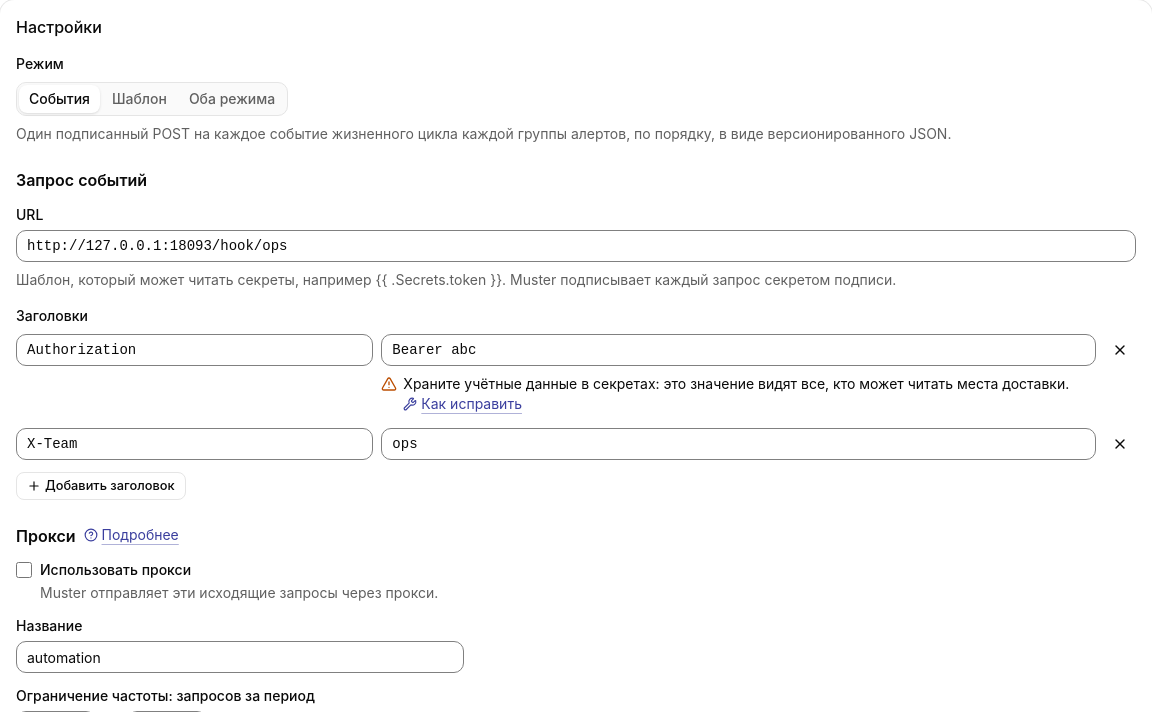
DestinationForm with the outgoing webhook fields › shows the fields in Russian
Expected: the element "События Шаблон Оба режима" is shown, [16, 82, 288, 116]
Expected: the element with test id "literal-credential" shows "Храните учётные данные в секретах: это значение видят все, кто может читать места доставки. Как исправить", [381, 374, 1096, 416]
Click the tab "Шаблон" at coordinates (139, 99), box [102, 85, 177, 113]
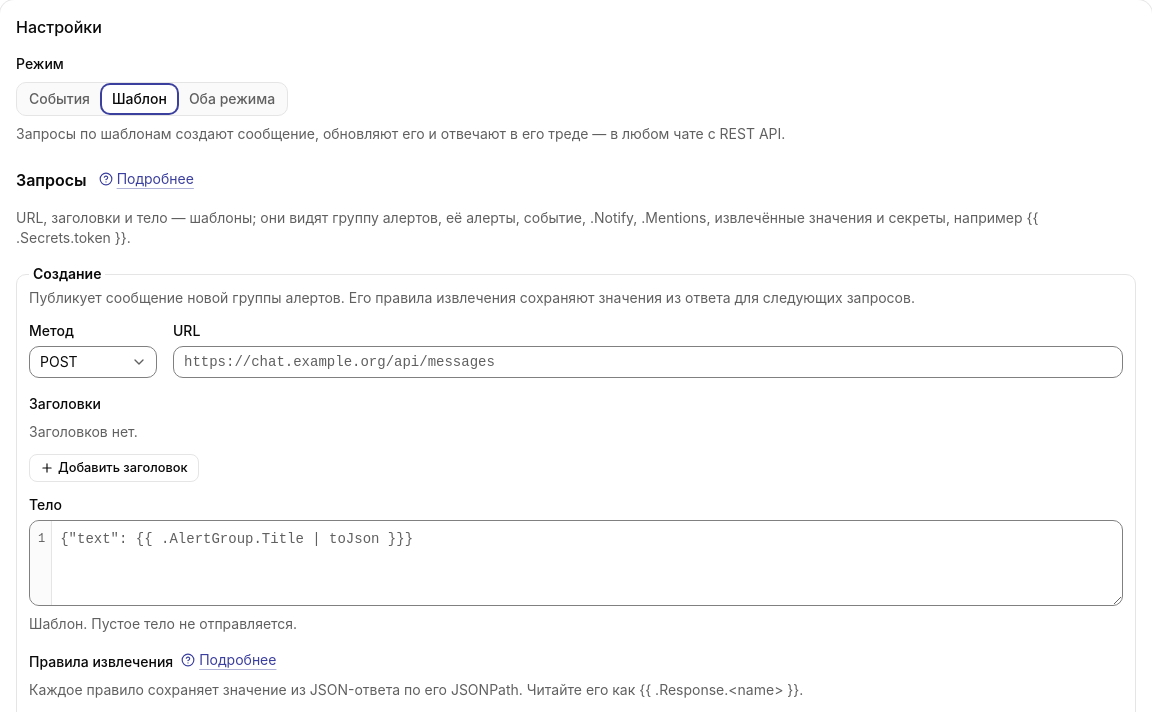
Now the text "правила извлечения" is shown, box [29, 289, 915, 306]
